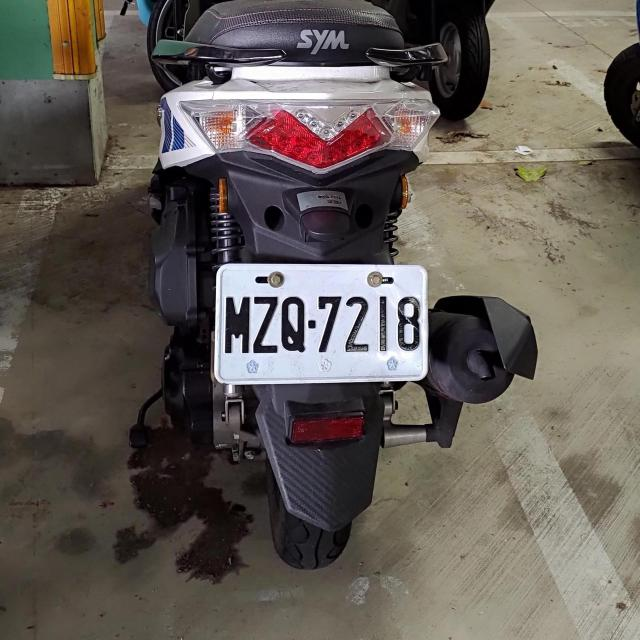W: (215, 262, 430, 382)
